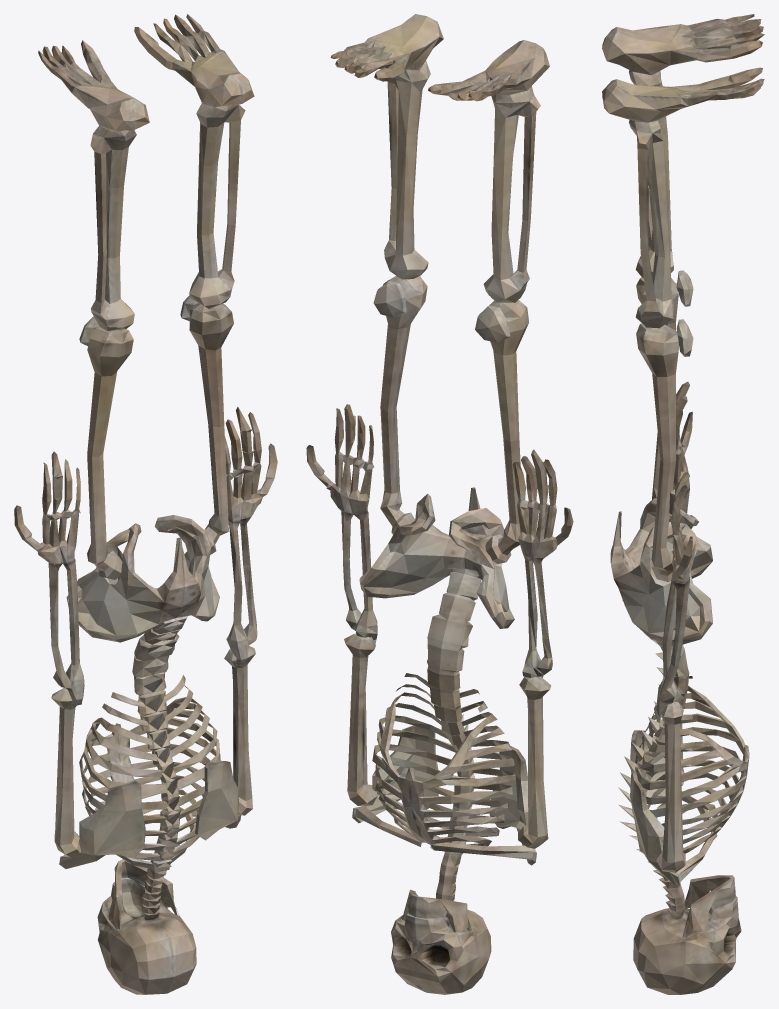
File: skeleton_knight.glb
The picture shows the model from 3 angles, left to right: view 1: azimuth 30°, elevation 25°; view 2: azimuth 150°, elevation 25°; view 3: azimuth 270°, elevation 25°; orthographic projection.
Parts seen in each view (by area): view 1: skeleton_knight.obj; view 2: skeleton_knight.obj; view 3: skeleton_knight.obj.
Part boxes in pixels (<box>): skeleton_knight.obj: <box>14,14,277,994</box>; skeleton_knight.obj: <box>306,14,573,994</box>; skeleton_knight.obj: <box>602,14,764,994</box>.
Bounding box in the file's own units: 0.2936 × 0.9995 × 0.1574.
Materials: 1 (1 with a texture image).
